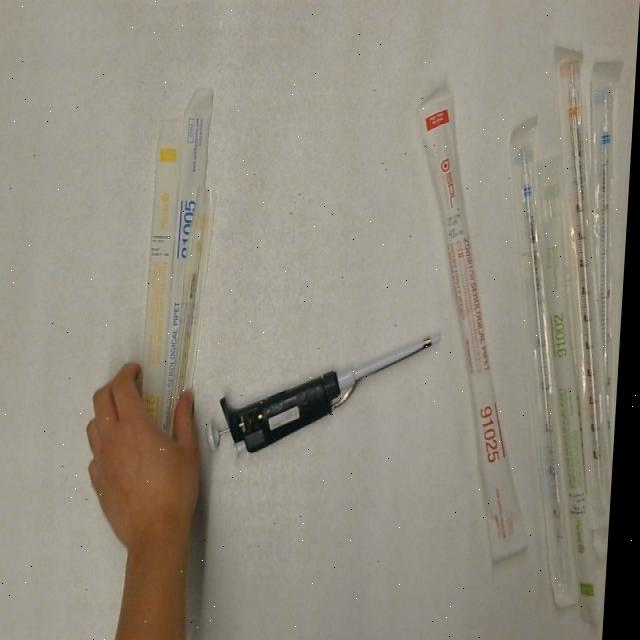Serelogical Pipet 1 mL - Sealed: (141, 111, 185, 434), (169, 186, 222, 440)
Serelogical Pipet 10 mL - Sealed: (534, 49, 638, 530)
Serelogical Pipet 2 mL - Sealed: (523, 212, 629, 627)
Serelogical Pipet 25 mL - Sealed: (398, 92, 559, 563)
Serelogical Pipet 5 mL - Sealed: (486, 115, 610, 610), (576, 58, 634, 426), (165, 82, 219, 434)
Single Channel Pipettor: (208, 328, 448, 458)
